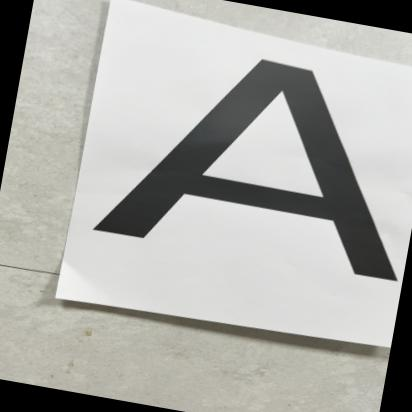seat: (67, 23, 412, 320)
